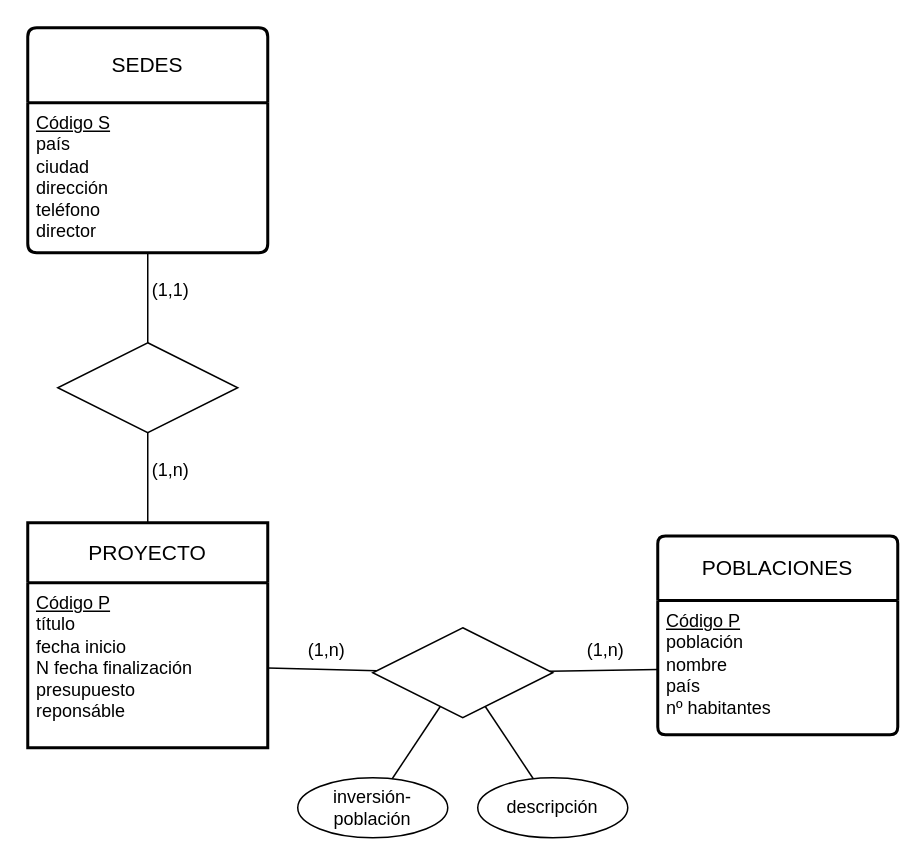
Some shapes in this 924 by 864 pixel diagram are drawn without their labels. The centre of each missing label's shape, as x and y in pixels:
"ACTÚAN NxM" goes at [462,672].
"DIRIGE Nx1" goes at [147,387].
